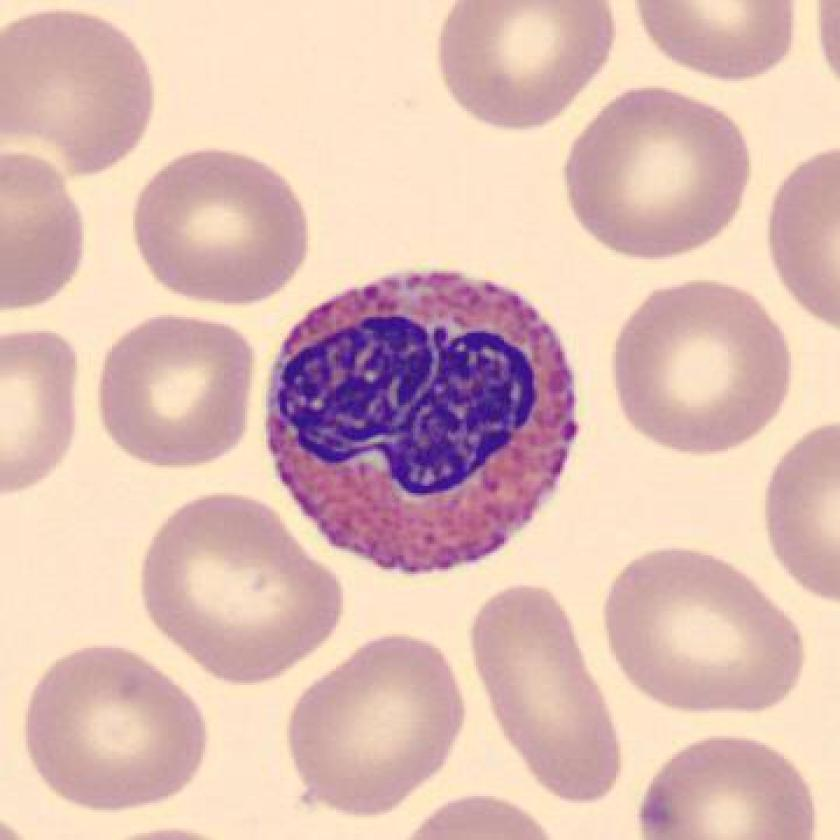eosinophil: (255, 260, 594, 584)
